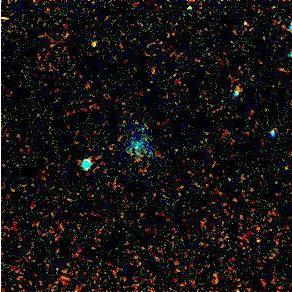star: (76, 29, 106, 59)
